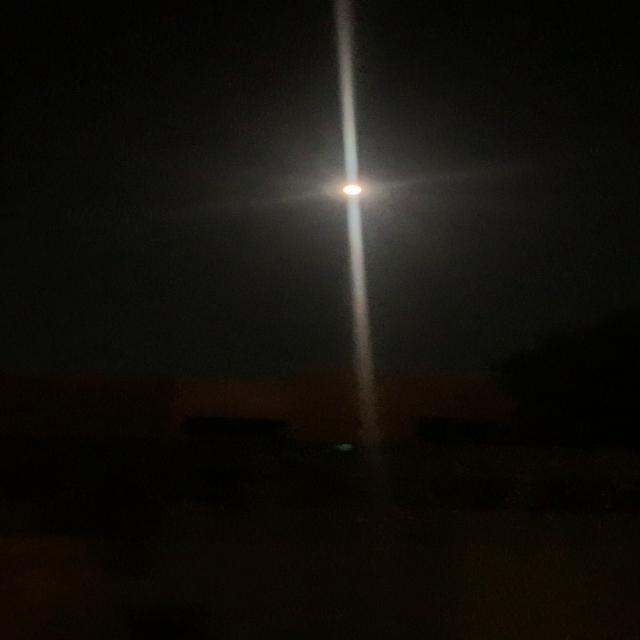moon: (326, 174, 388, 206)
